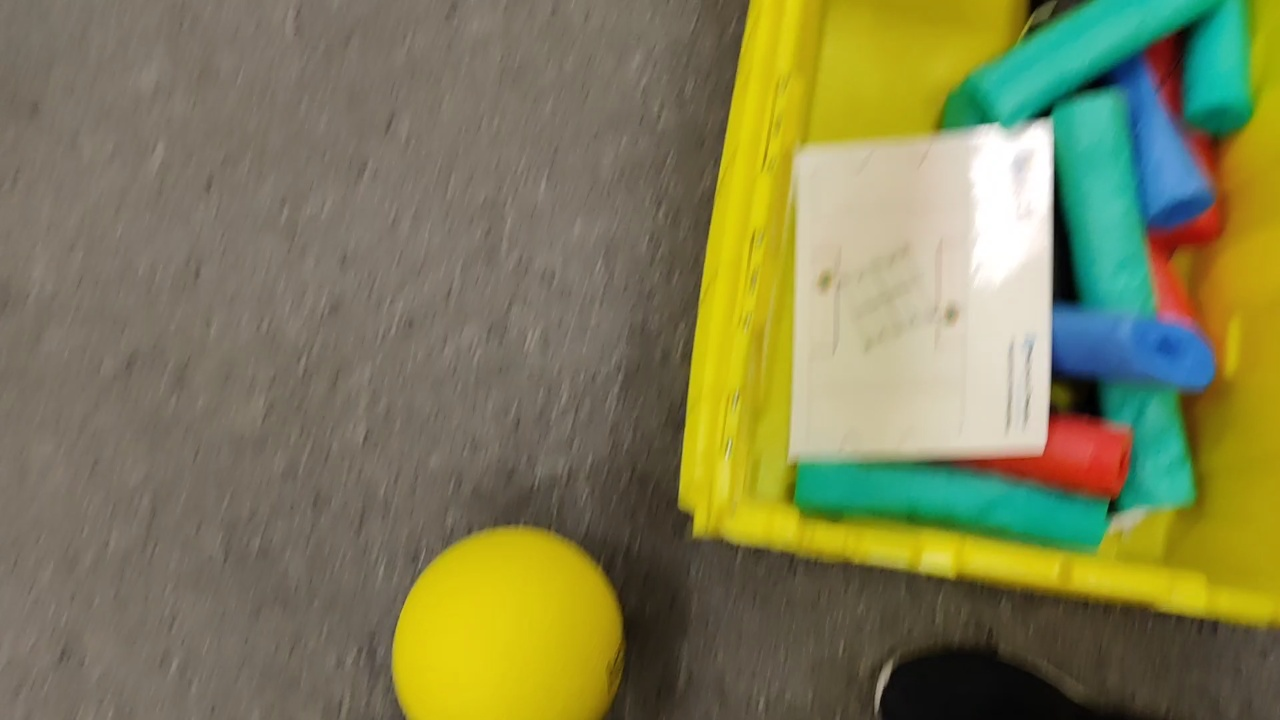Ball: (391, 525, 626, 720)
